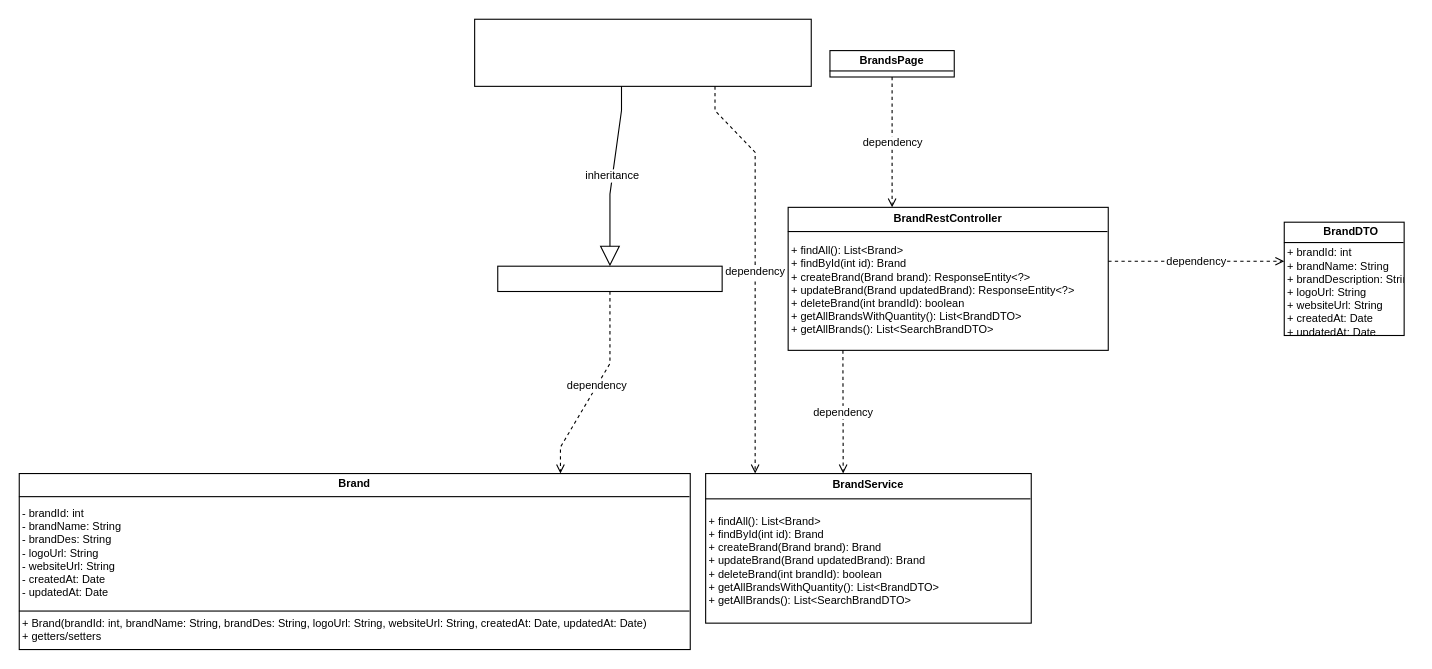
This 1432x669 diagram has some shape labels left out. Here are the shapes that lost their labels. From the top down, the box of each, then its label:
(474, 18, 811, 86): <<Interface>> BrandRepository + findAllBrandsWithQuantity(): List<Object[]>
(497, 265, 722, 292): JpaRepository
